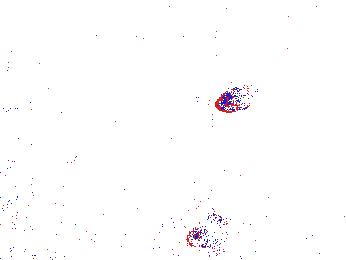X-ray fish: (221, 210, 277, 244), (214, 79, 263, 117), (184, 208, 228, 248), (213, 236, 232, 253)
